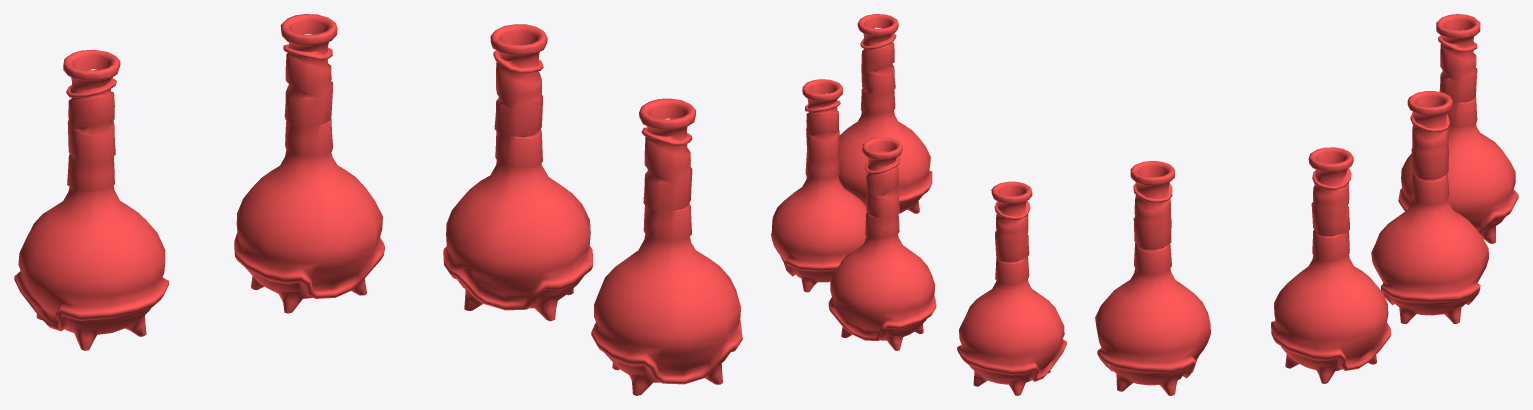
The picture shows the model from 3 angles, left to right: view 1: azimuth 30°, elevation 25°; view 2: azimuth 150°, elevation 25°; view 3: azimuth 270°, elevation 25°; orthographic projection. The views are drawn at different scales.
Visible parts, largest first — view 1: group1 bottle_ncl1_3, group1 bottle_ncl1_1, group1 bottle_ncl1_2, group1 bottle; view 2: group1 bottle, group1 bottle_ncl1_2, group1 bottle_ncl1_1, group1 bottle_ncl1_3; view 3: group1 bottle_ncl1_1, group1 bottle_ncl1_3, group1 bottle, group1 bottle_ncl1_2.
Part boxes in pixels (x1=…): group1 bottle_ncl1_3: x1=591, y1=98, x2=742, y2=395; group1 bottle_ncl1_1: x1=443, y1=24, x2=592, y2=321; group1 bottle_ncl1_2: x1=14, y1=49, x2=168, y2=350; group1 bottle: x1=234, y1=14, x2=384, y2=313; group1 bottle: x1=828, y1=137, x2=936, y2=350; group1 bottle_ncl1_2: x1=957, y1=181, x2=1066, y2=395; group1 bottle_ncl1_1: x1=771, y1=79, x2=866, y2=292; group1 bottle_ncl1_3: x1=838, y1=14, x2=932, y2=213; group1 bottle_ncl1_1: x1=1271, y1=147, x2=1391, y2=383; group1 bottle_ncl1_3: x1=1095, y1=160, x2=1210, y2=395; group1 bottle: x1=1371, y1=91, x2=1488, y2=323; group1 bottle_ncl1_2: x1=1398, y1=14, x2=1518, y2=243.
Size of what is drawn, in the model's own units: 123 by 61.35 by 112.
